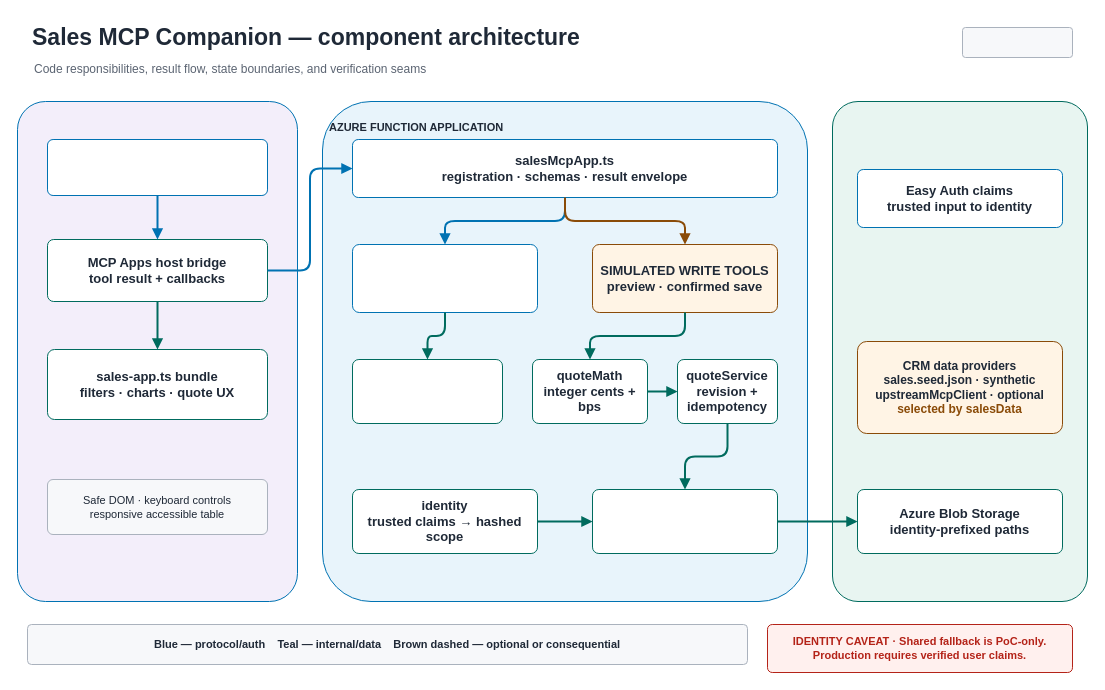
This 1105x690 diagram has some shape labels left out. Each missing label, with the box of its shape:
DEPENDENCIES: (832, 100, 1088, 602)
HOST + UI: (16, 100, 298, 602)
M365 Copilot / Cowork MCP host: (46, 138, 268, 196)
PASS 3: (962, 26, 1072, 58)
quoteStore ETag conditional writes: (592, 488, 778, 554)
READ TOOLS dashboard · opportunity · get quote: (352, 244, 538, 312)
salesData normalized CRM access: (352, 358, 502, 424)
